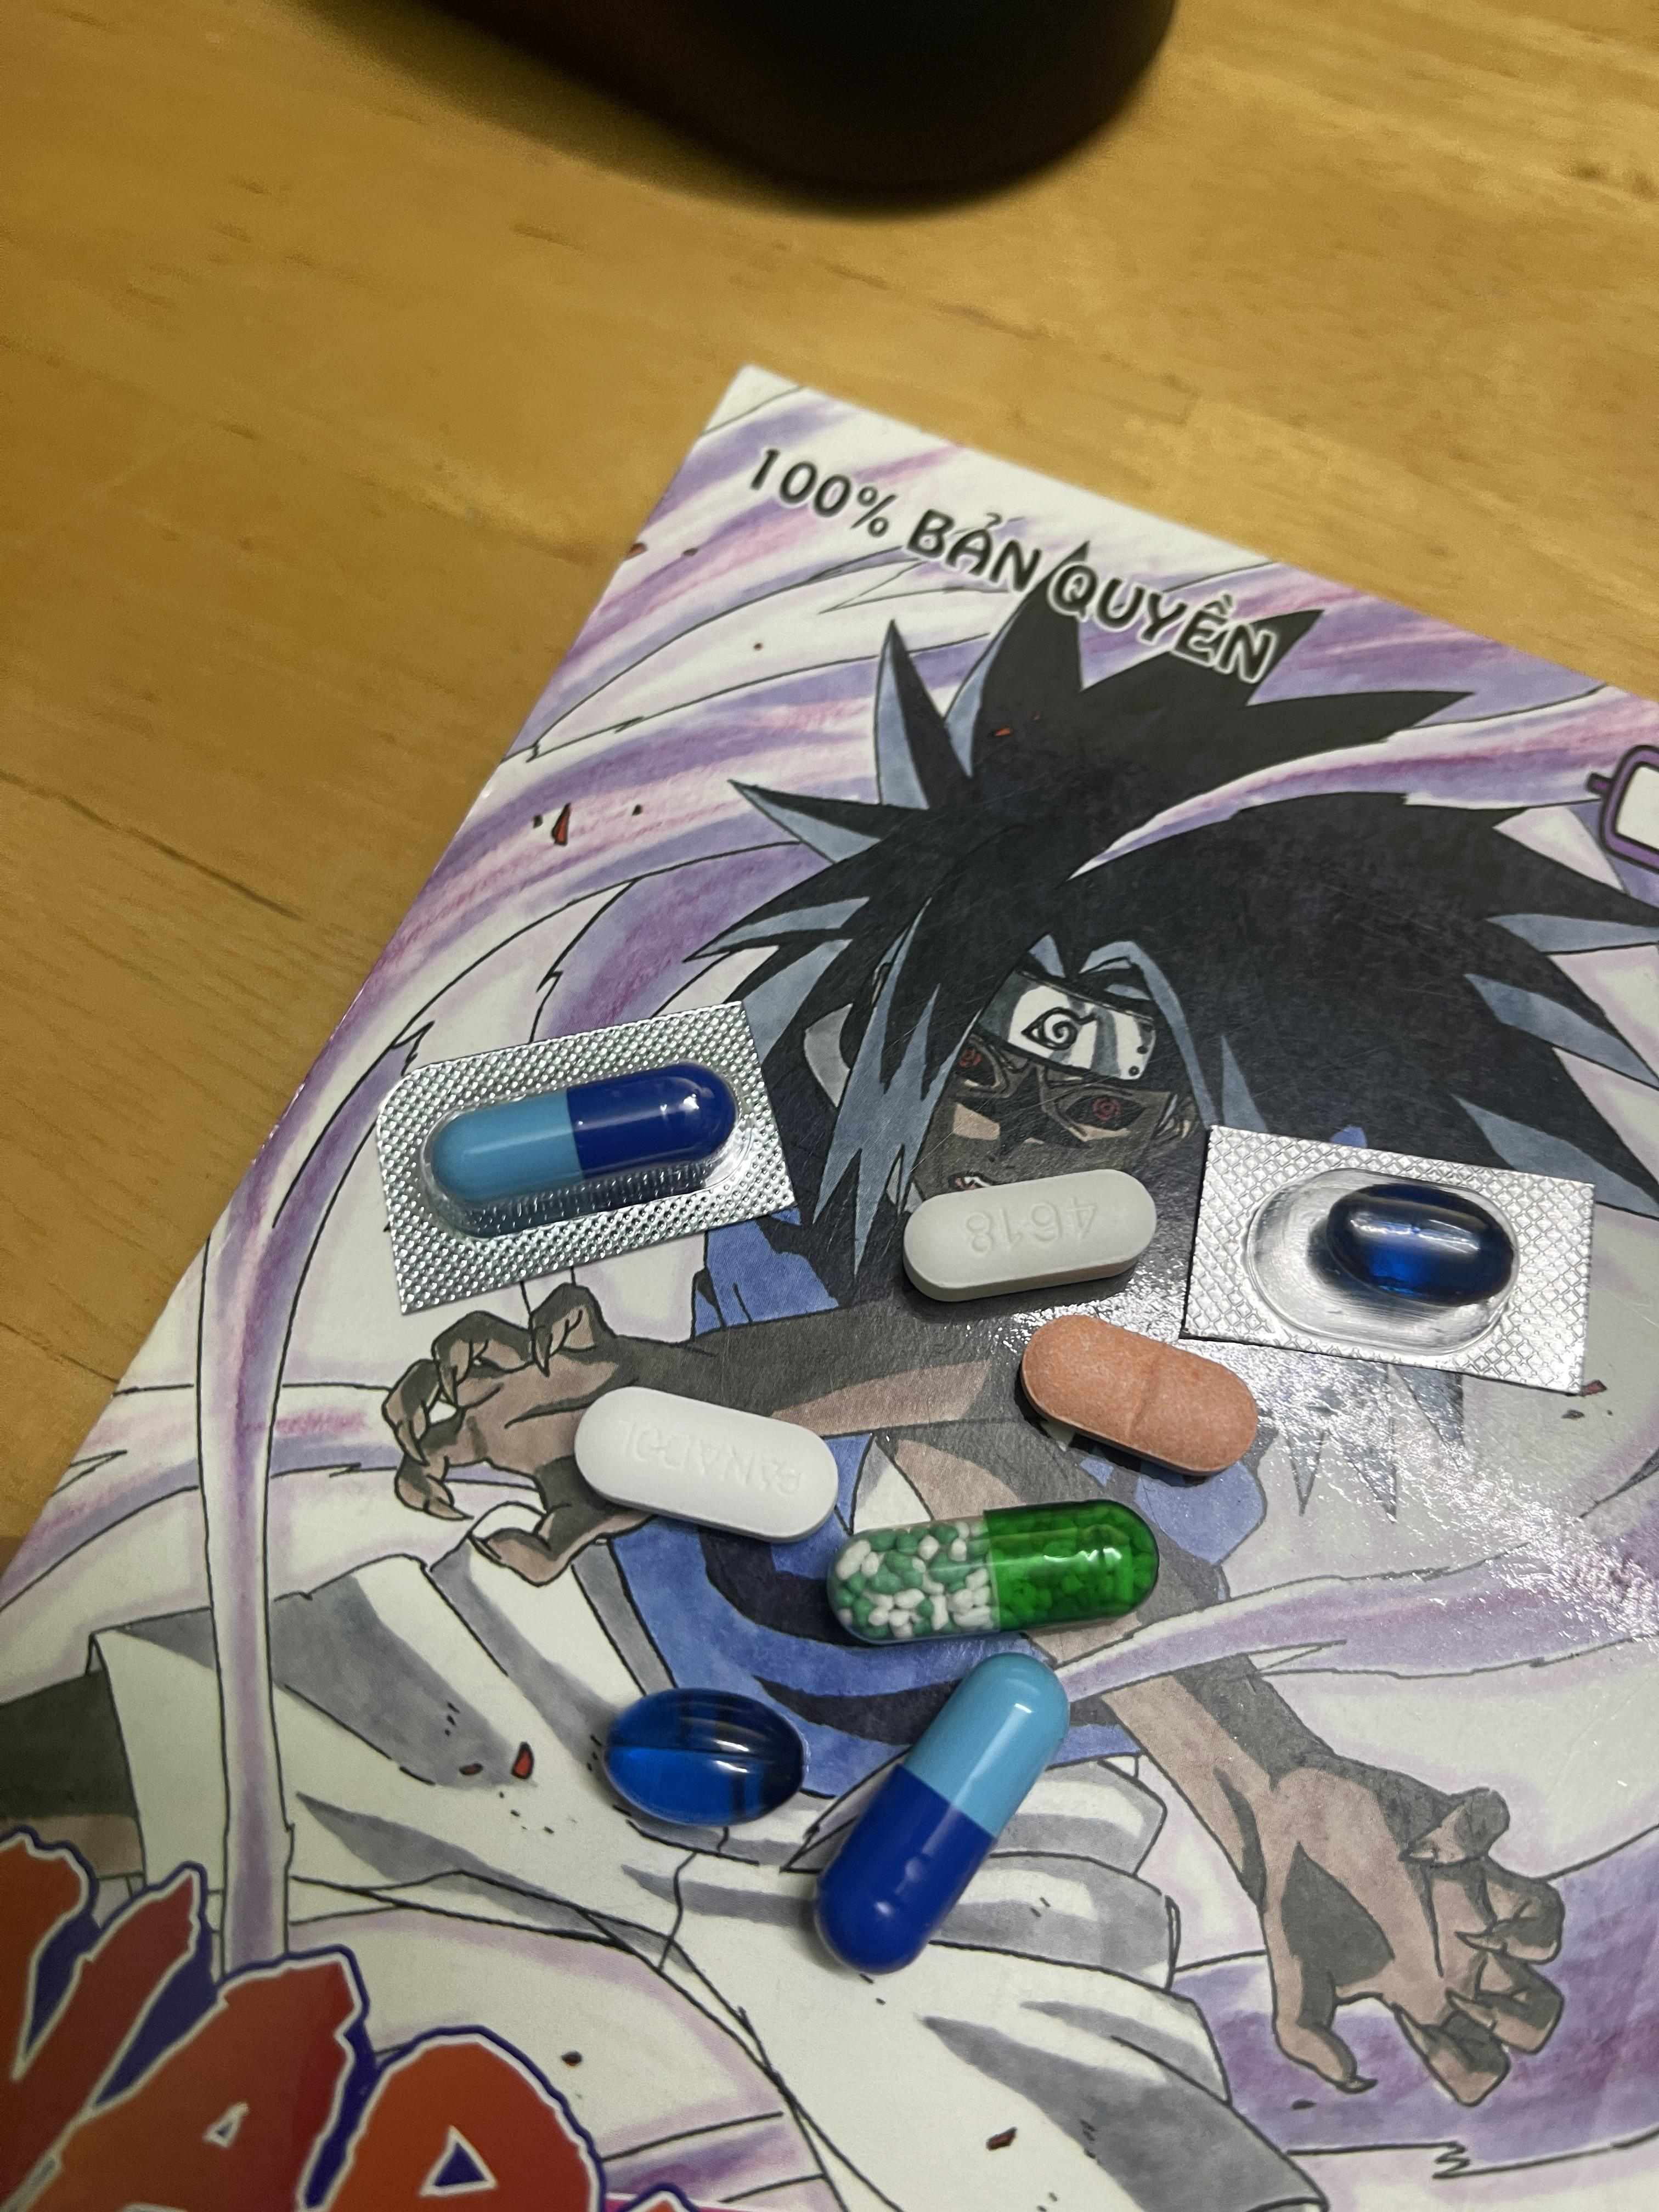Lincomyxin_500mg: (599, 1688, 809, 1829), (1319, 1181, 1514, 1312)
Loratadine_10mg: (1023, 1318, 1258, 1474)
Paracetamol_350mg: (572, 1381, 843, 1543)
Paracetamol_500mg: (901, 1163, 1164, 1305)
Paracetamol_650mg: (840, 1508, 1150, 1637)
pill: (824, 1660, 1066, 1923), (437, 1066, 730, 1209)
